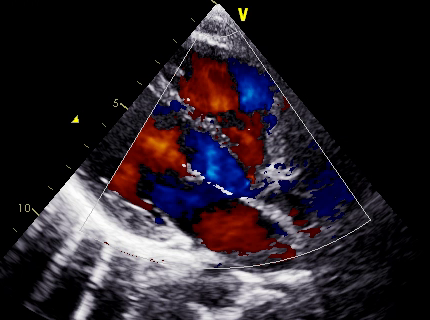AR: (154, 119, 221, 182)
